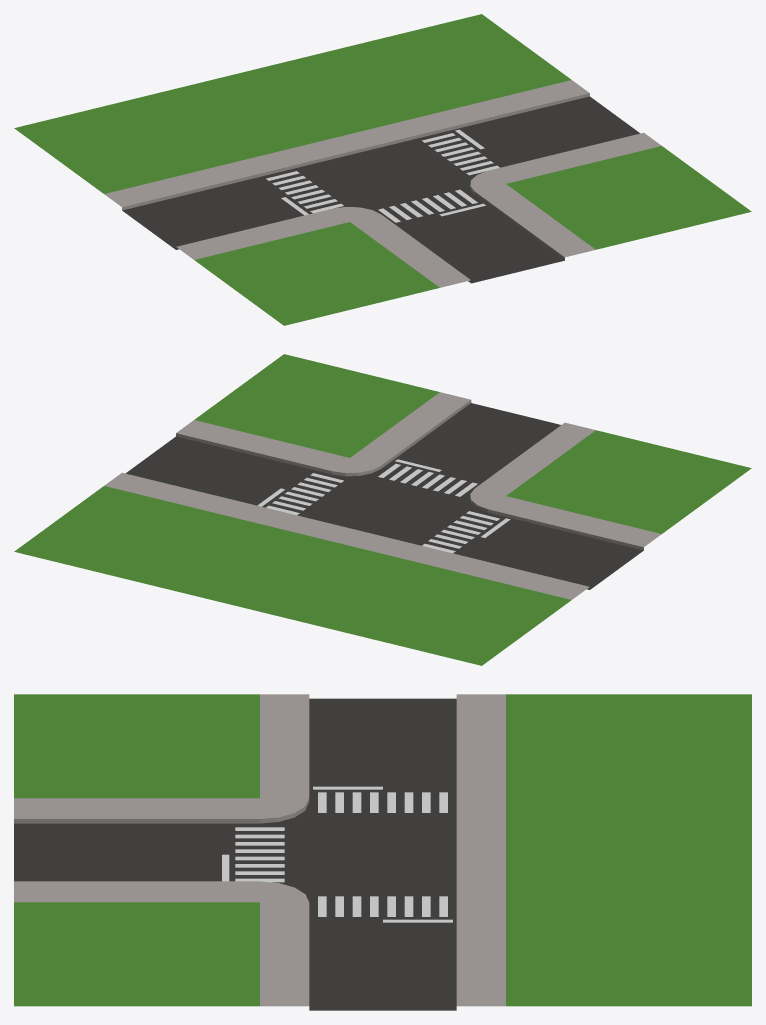
File: tiles-nb-tile-road-intersection-t-nb.glb
The picture shows the model from 3 angles, top to bottom: view 1: azimuth 30°, elevation 25°; view 2: azimuth 150°, elevation 25°; view 3: azimuth 270°, elevation 25°; orthographic projection. The views are drawn at different scales.
Visible parts, largest first — view 1: tile-road-intersection-t-nb; view 2: tile-road-intersection-t-nb; view 3: tile-road-intersection-t-nb.
Boxes of the visible parts, left/top/right/bottom form: tile-road-intersection-t-nb: left=14, top=14, right=751, bottom=325; tile-road-intersection-t-nb: left=14, top=354, right=751, bottom=665; tile-road-intersection-t-nb: left=14, top=694, right=751, bottom=1010.
Bounding box in the file's own units: 30 × 0.2 × 30.
